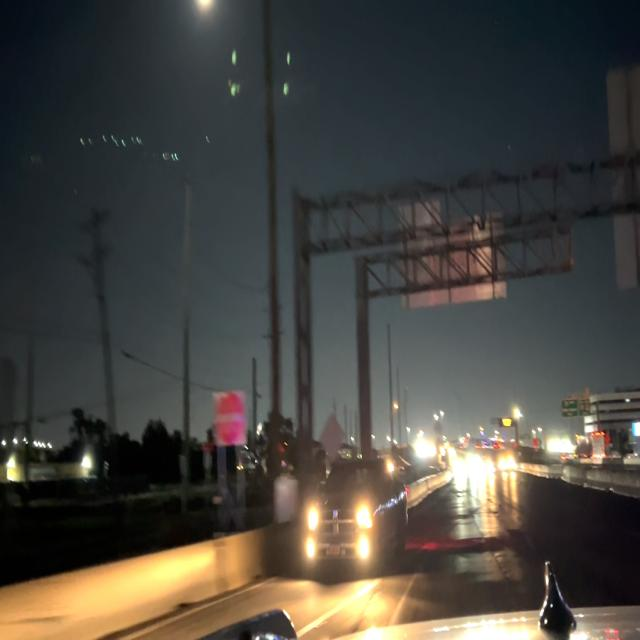back-of-sign: (402, 206, 506, 306)
